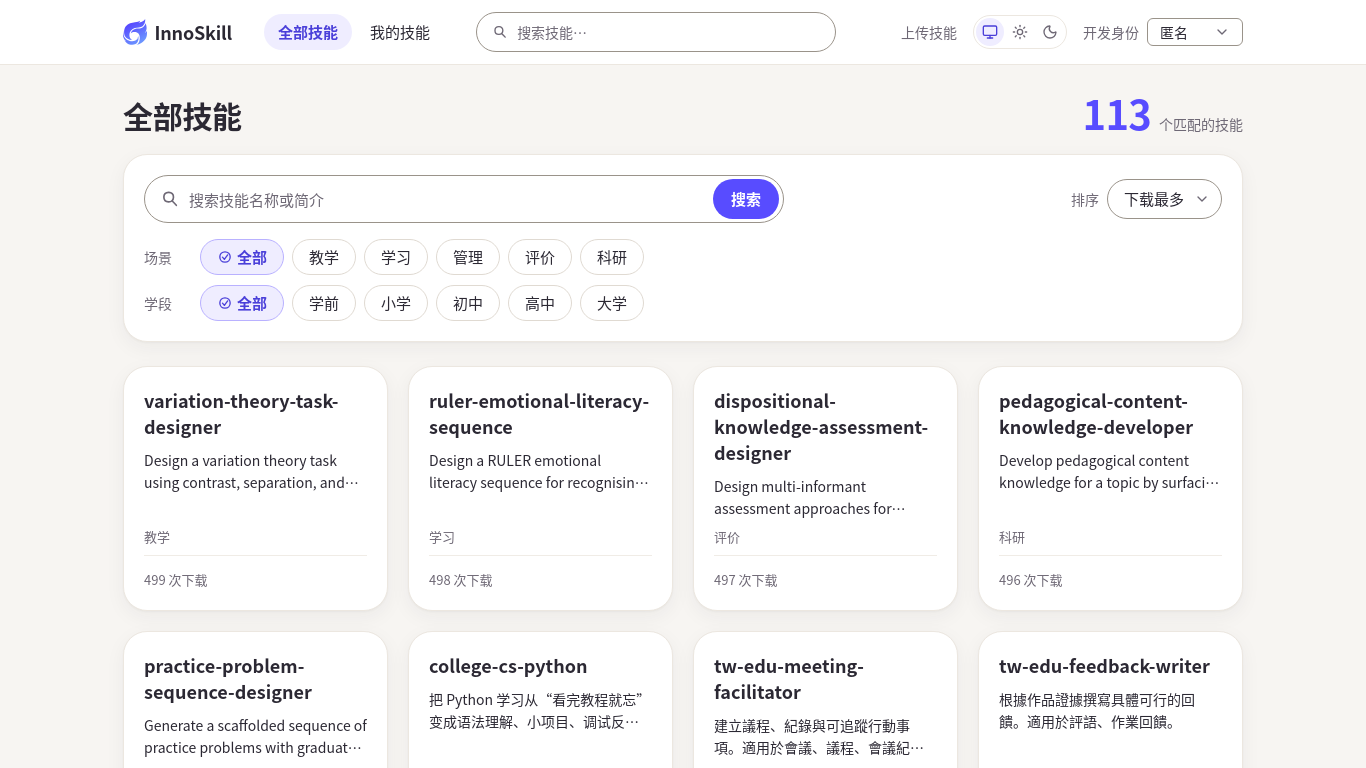
Test case: 搜索页 · 标签筛选 › 每组单选；两组取交集，条件写进 URL，标题跟着变
Expected: the text "113" is shown, [1083, 93, 1151, 133]
Click the radio button labelled "评价" at (540, 257), box [508, 239, 572, 275]
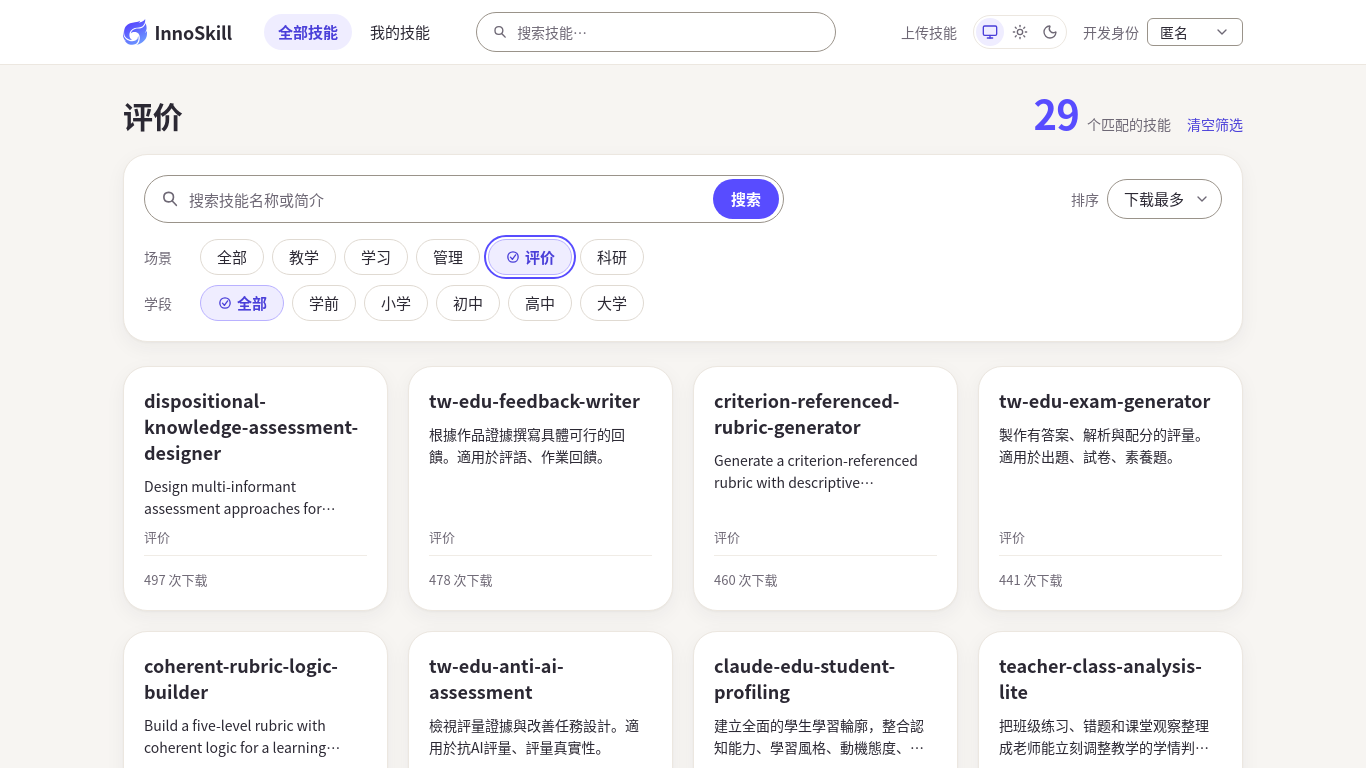
Expected: the text "29" is shown, [1033, 93, 1079, 133]
Expected: the heading "评价" is shown, [123, 96, 182, 134]
Click the radio button labelled "小学" at (396, 303), box [364, 285, 428, 321]
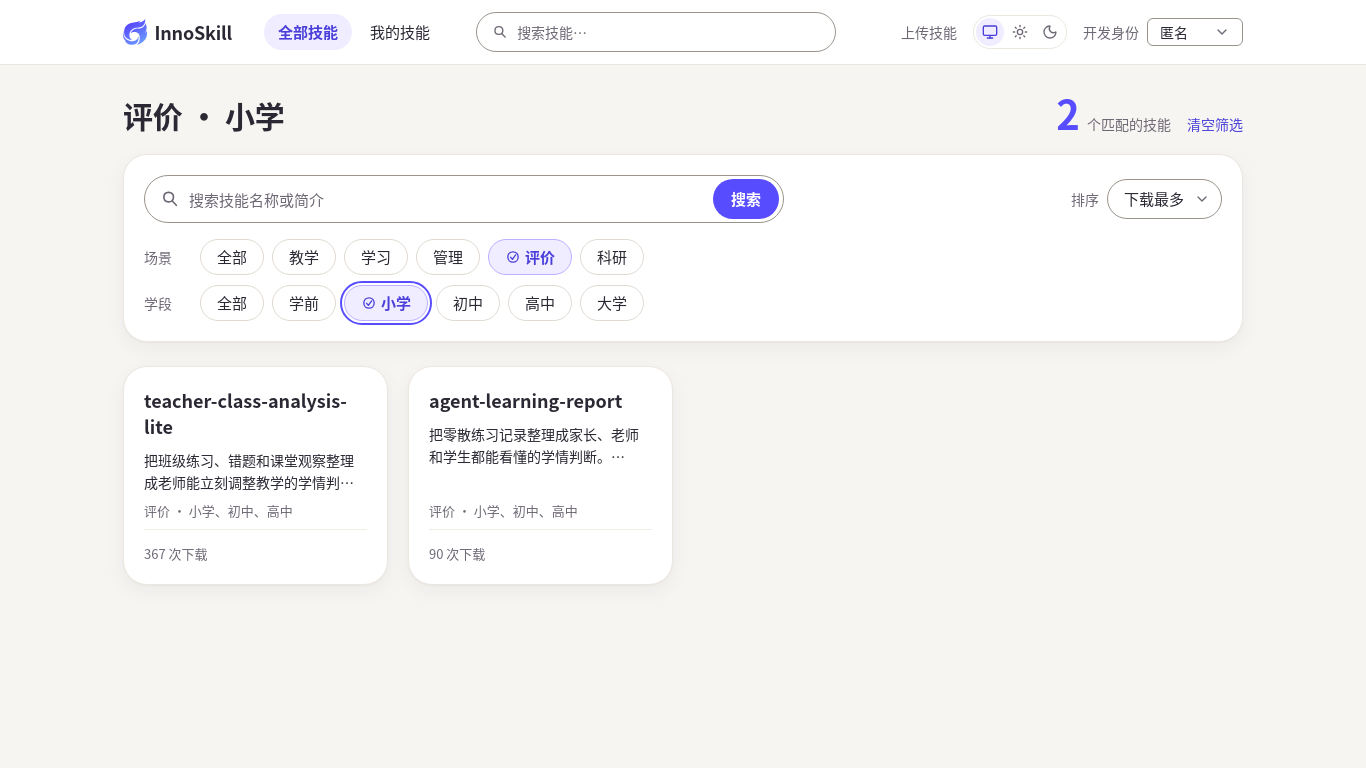
Expected: the heading "评价 · 小学" is shown, [123, 96, 284, 134]
